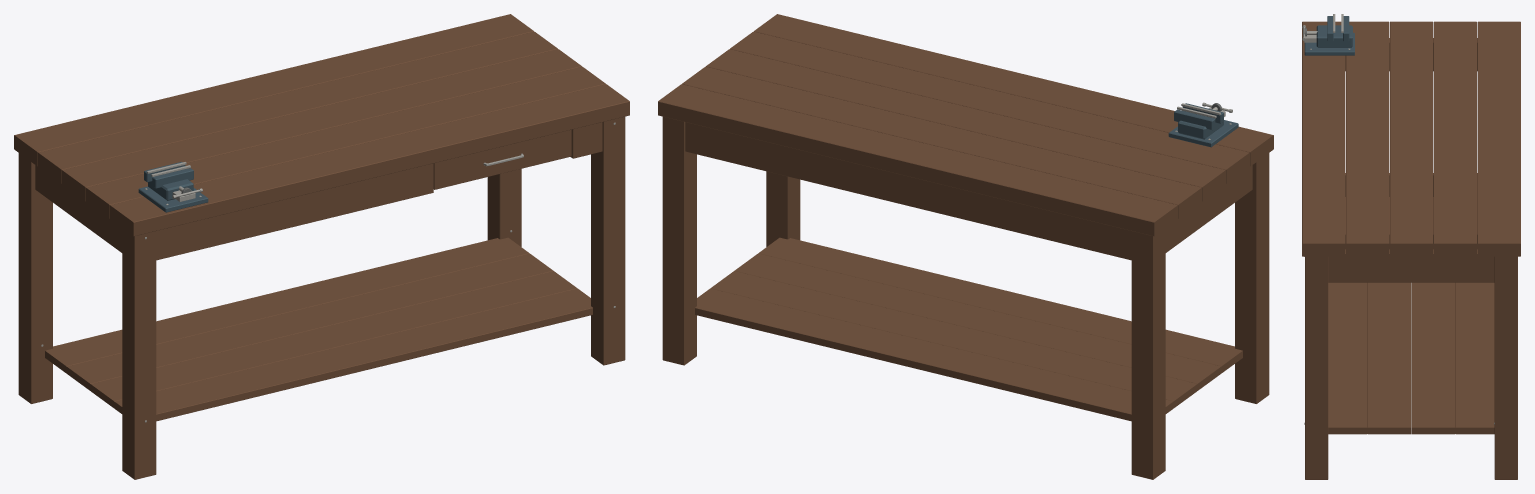
File: workbench-2d208cbb292d.glb
The picture shows the model from 3 angles, left to right: view 1: azimuth 30°, elevation 25°; view 2: azimuth 150°, elevation 25°; view 3: azimuth 270°, elevation 25°; orthographic projection. The views are drawn at different scales.
Parts seen in each view (by area): view 1: wood-workshop, enamel-blue, brushed; view 2: wood-workshop, enamel-blue; view 3: wood-workshop, enamel-blue, brushed.
Boxes of the visible parts, x1,y1,x2,y2 form: wood-workshop: (14,14,629,479); enamel-blue: (138,161,208,212); brushed: (41,122,615,422); wood-workshop: (658,14,1273,479); enamel-blue: (1168,103,1238,147); wood-workshop: (1302,21,1520,479); enamel-blue: (1304,16,1354,55); brushed: (1302,14,1494,424).
Size of the model in its own units: 1.8 by 0.99 by 0.75.
